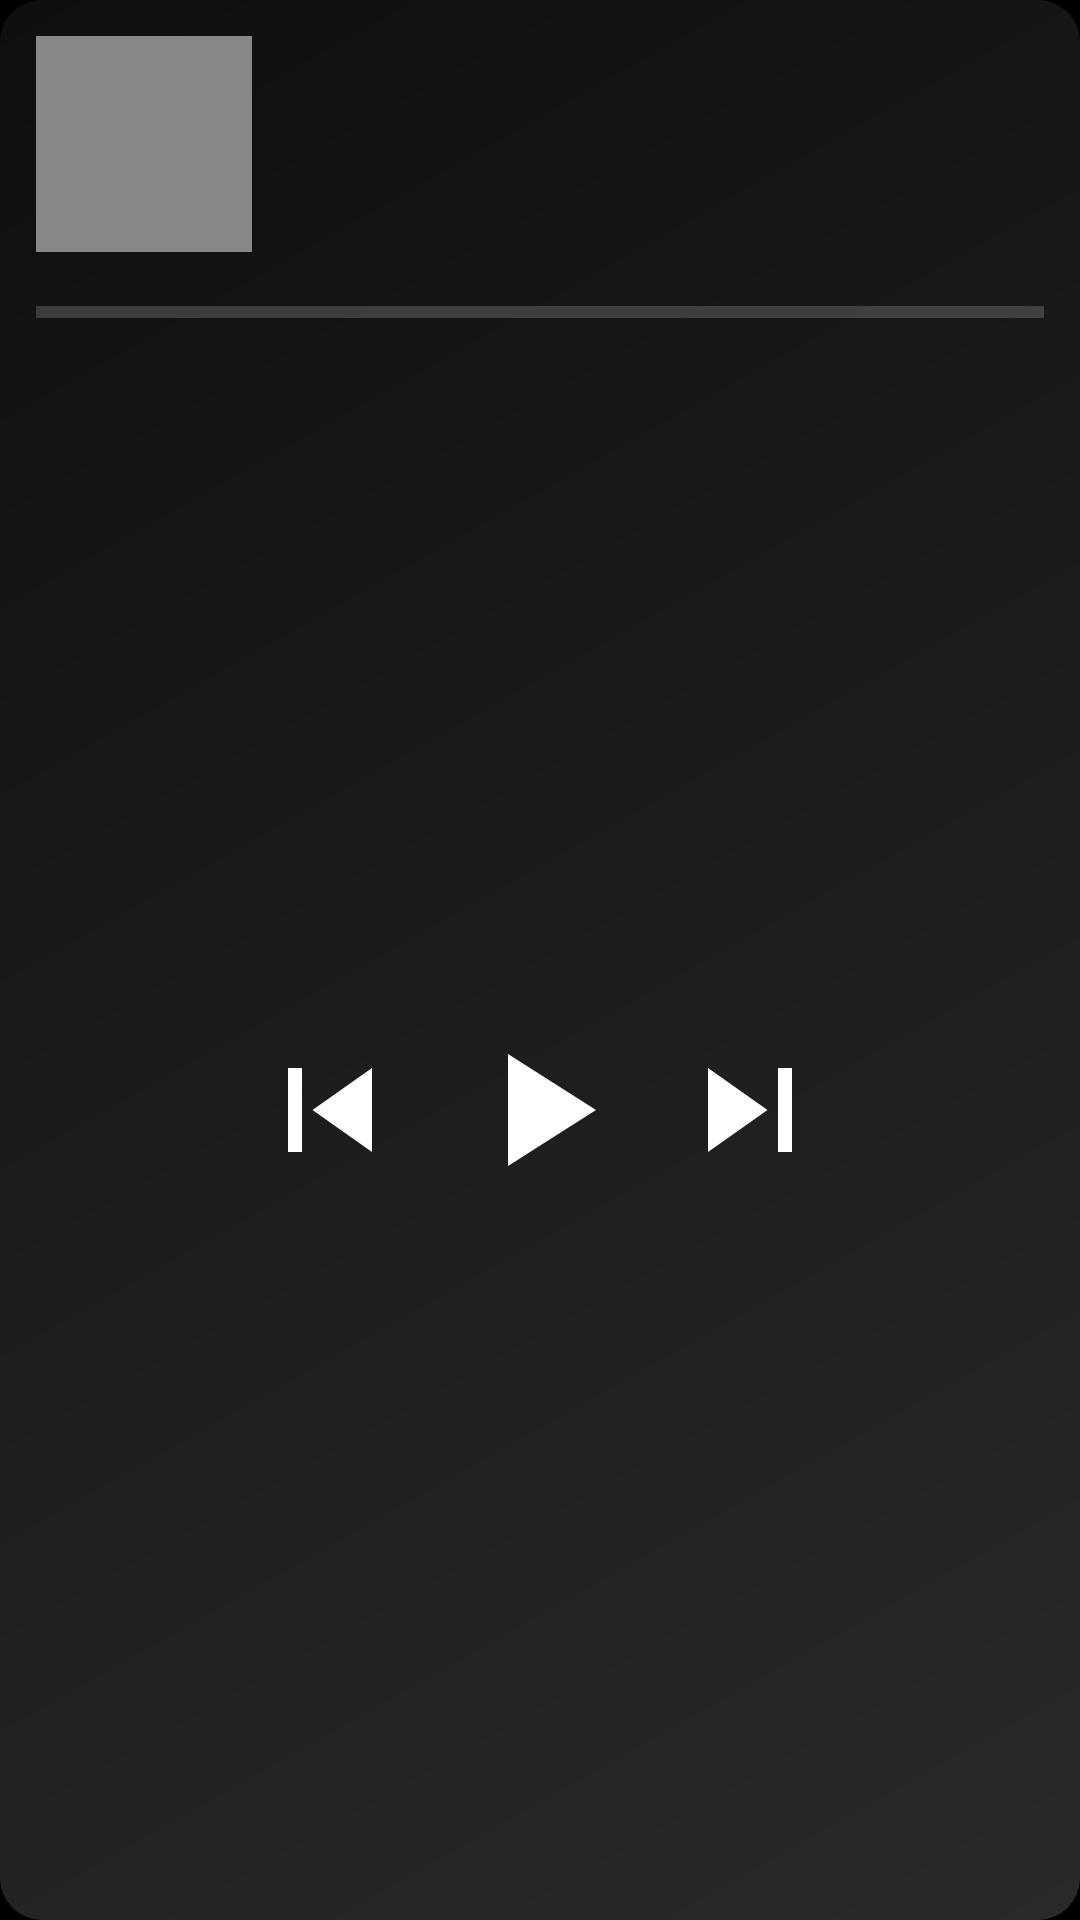

Named icons in this screenshot (1080*1920) and their bounding boxes, {"x1": x1, "y1": y1, "x2": x2, "y2": y2}:
Next: {"x1": 708, "y1": 1068, "x2": 792, "y2": 1152}
Play / Pause: {"x1": 508, "y1": 1054, "x2": 596, "y2": 1166}
Previous: {"x1": 288, "y1": 1068, "x2": 372, "y2": 1152}
